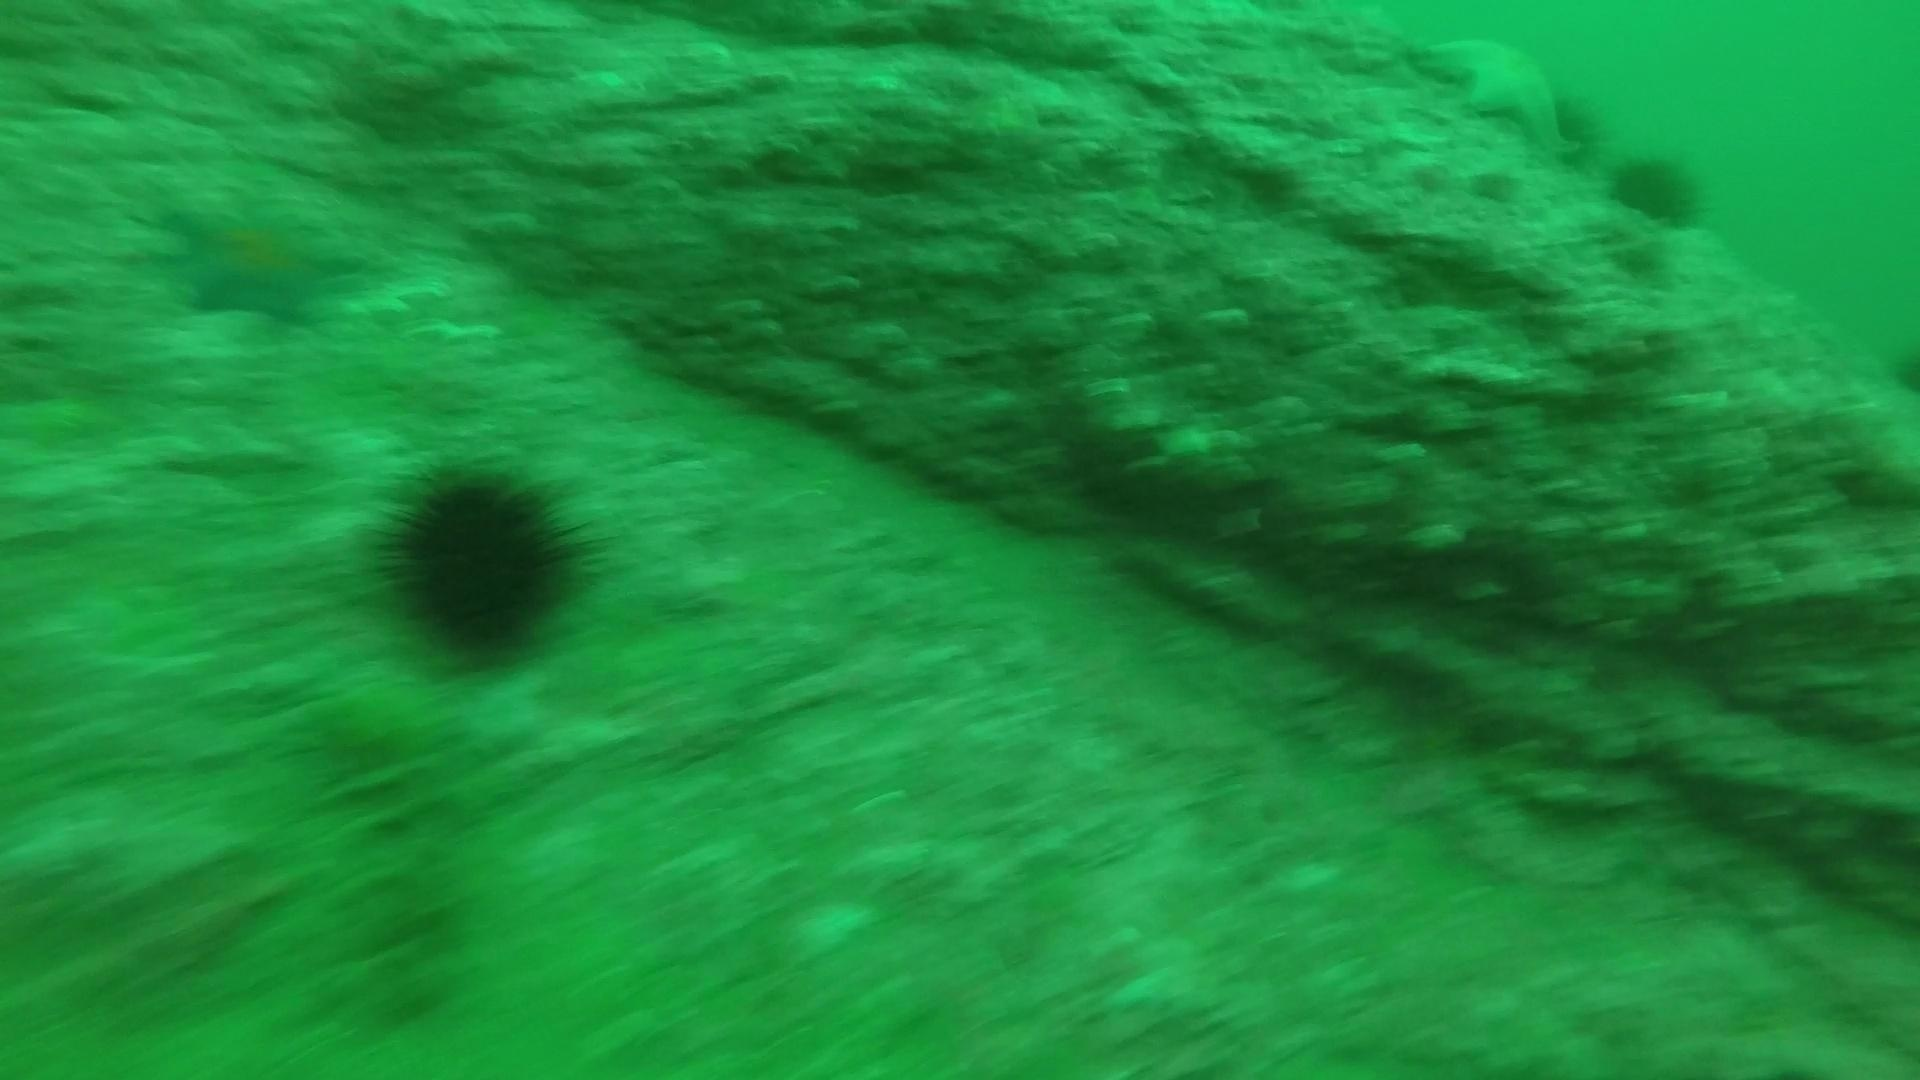echinus: (369, 454, 600, 671), (1602, 144, 1709, 233)
holothurian: (243, 690, 535, 1040)
starfish: (154, 183, 371, 331), (1412, 25, 1581, 157)
